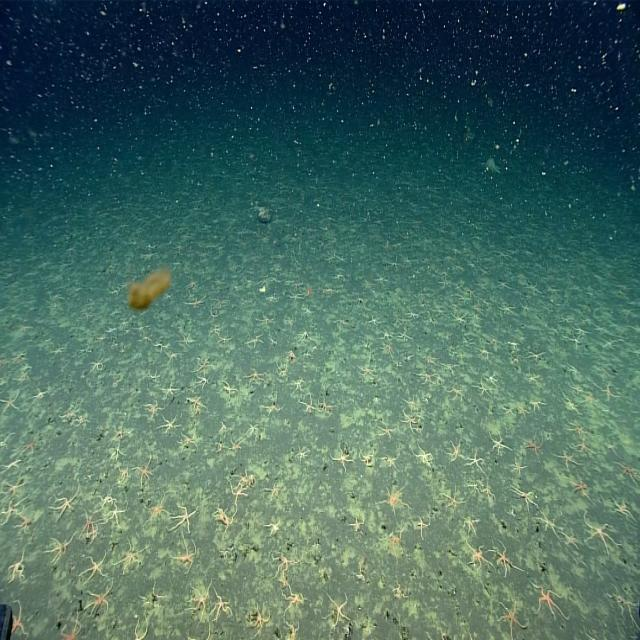brittle-stars: (532, 582, 568, 622), (584, 518, 614, 558), (499, 598, 527, 638), (492, 540, 518, 577), (8, 600, 30, 639), (534, 508, 561, 539), (327, 594, 351, 626), (86, 588, 112, 617), (47, 533, 72, 563), (173, 542, 198, 572), (172, 505, 195, 536), (511, 485, 537, 512), (566, 474, 593, 500), (553, 447, 581, 472), (464, 542, 487, 572), (51, 491, 76, 518), (0, 476, 27, 501), (191, 586, 212, 617), (617, 459, 638, 490), (280, 589, 306, 614), (272, 552, 297, 578), (82, 554, 106, 581), (381, 486, 406, 511), (331, 444, 354, 471), (609, 494, 632, 521), (212, 593, 234, 621), (8, 554, 29, 583), (249, 602, 269, 632), (384, 528, 404, 558), (59, 613, 81, 640), (441, 487, 463, 514), (229, 482, 248, 513), (121, 541, 142, 569), (488, 430, 509, 458), (464, 449, 486, 475), (135, 456, 154, 486), (523, 432, 543, 460), (561, 390, 581, 417), (0, 502, 23, 524), (185, 394, 205, 419), (80, 510, 97, 539), (159, 414, 179, 438), (106, 506, 125, 530), (96, 489, 115, 513), (413, 444, 432, 468), (561, 527, 579, 552), (179, 430, 200, 451), (380, 452, 402, 472), (264, 394, 283, 417), (475, 376, 493, 400), (569, 418, 589, 439), (0, 391, 20, 412), (446, 440, 464, 463), (316, 395, 334, 418), (574, 440, 595, 459), (220, 380, 238, 402), (244, 367, 264, 386), (347, 515, 365, 536), (266, 478, 284, 499), (358, 447, 376, 468), (297, 395, 315, 416), (108, 443, 126, 464), (243, 331, 264, 349), (418, 370, 436, 390), (141, 400, 161, 418), (416, 514, 430, 539), (29, 386, 48, 404), (600, 382, 617, 402), (357, 362, 377, 379), (21, 436, 37, 457), (255, 310, 276, 326), (108, 423, 130, 438), (192, 373, 210, 391), (185, 295, 203, 313), (450, 312, 468, 330), (163, 347, 180, 366), (265, 519, 281, 539), (402, 412, 418, 432), (463, 519, 483, 535), (468, 475, 481, 499), (193, 358, 210, 376), (379, 420, 394, 440), (477, 342, 492, 362), (89, 357, 104, 376), (528, 398, 545, 414), (286, 288, 304, 303), (163, 381, 177, 400), (245, 421, 259, 440), (118, 464, 130, 486), (291, 377, 306, 394), (296, 445, 310, 463), (181, 331, 194, 350), (228, 438, 243, 453), (148, 366, 162, 382), (368, 311, 381, 328), (406, 394, 418, 412), (518, 402, 530, 420), (381, 341, 394, 357), (301, 303, 314, 319)
